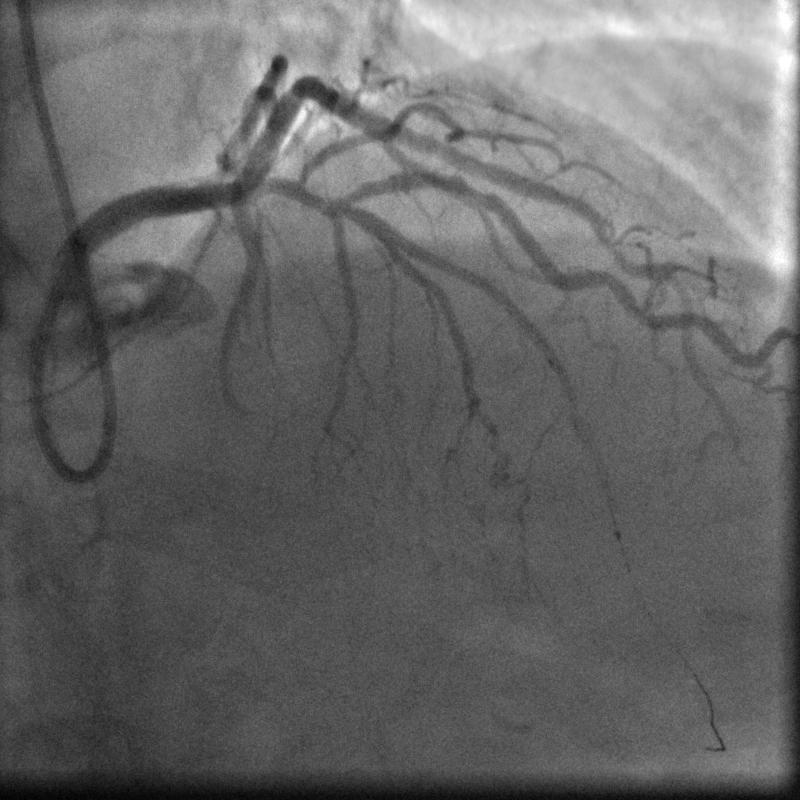Stenosis: (449, 168, 496, 212)
